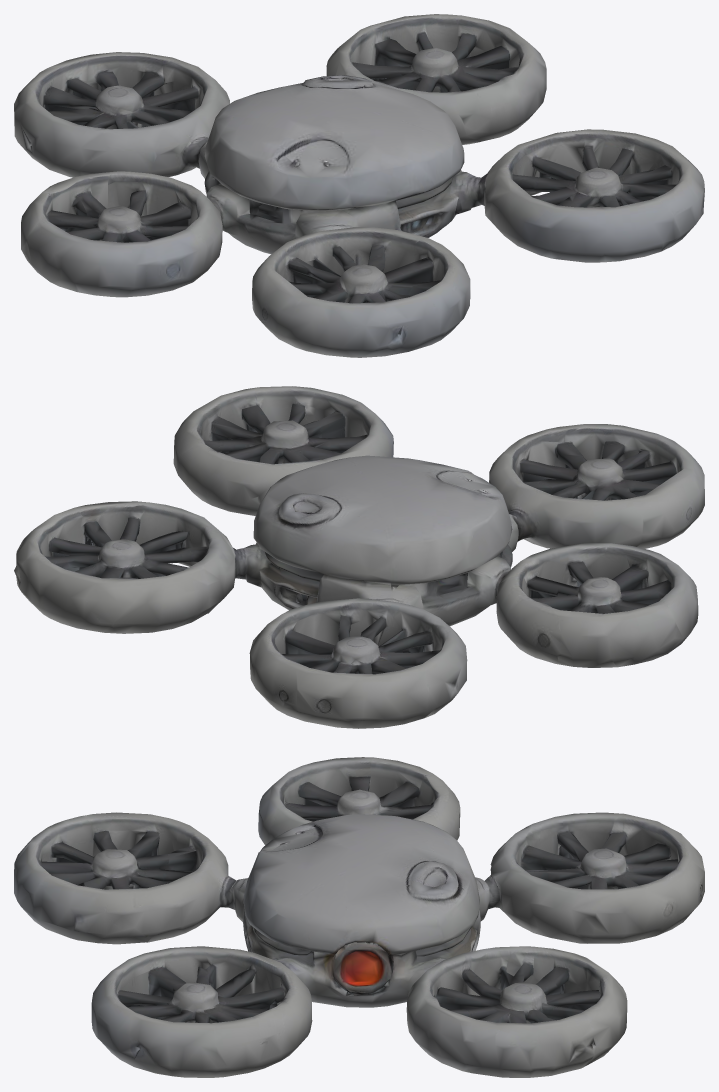
Rendered from drone.glb.
3 views of the same model, one above another, from view 1: azimuth 30°, elevation 25°; view 2: azimuth 150°, elevation 25°; view 3: azimuth 270°, elevation 25° (orthographic).
Parts seen in each view (by area): view 1: tripo_node_b0d71af2-d56d-4887-b461-cc5a9d52b04c; view 2: tripo_node_b0d71af2-d56d-4887-b461-cc5a9d52b04c; view 3: tripo_node_b0d71af2-d56d-4887-b461-cc5a9d52b04c.
Part boxes in pixels (box(x1,y1,x2,y2)): tripo_node_b0d71af2-d56d-4887-b461-cc5a9d52b04c: box(14, 14, 704, 357); tripo_node_b0d71af2-d56d-4887-b461-cc5a9d52b04c: box(14, 386, 704, 728); tripo_node_b0d71af2-d56d-4887-b461-cc5a9d52b04c: box(14, 757, 704, 1077).
Size of the model in its own units: 2.9 by 0.6 by 3.01.
1 material, 1 textured.
